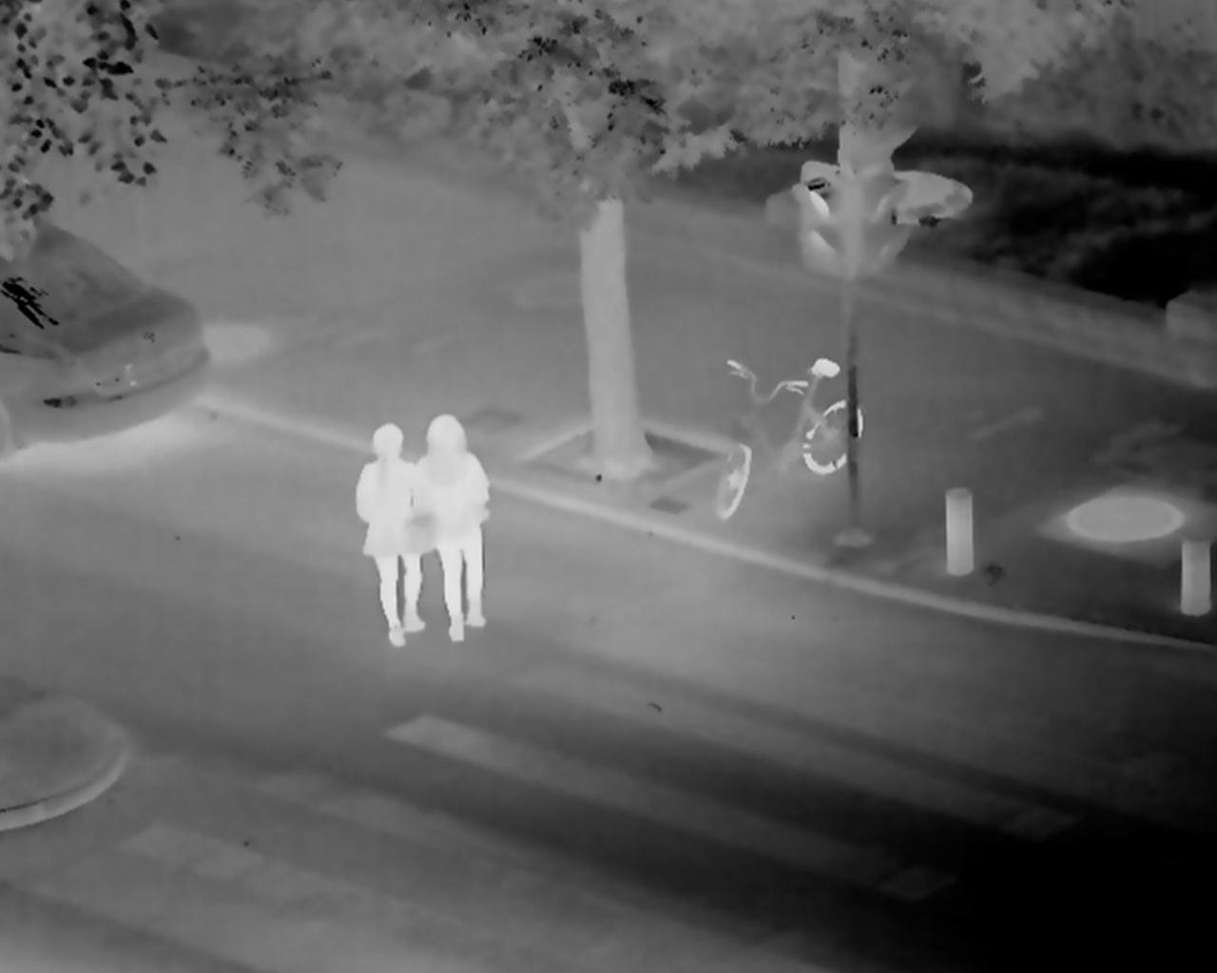person: (412, 414, 489, 647), (351, 424, 432, 645)
